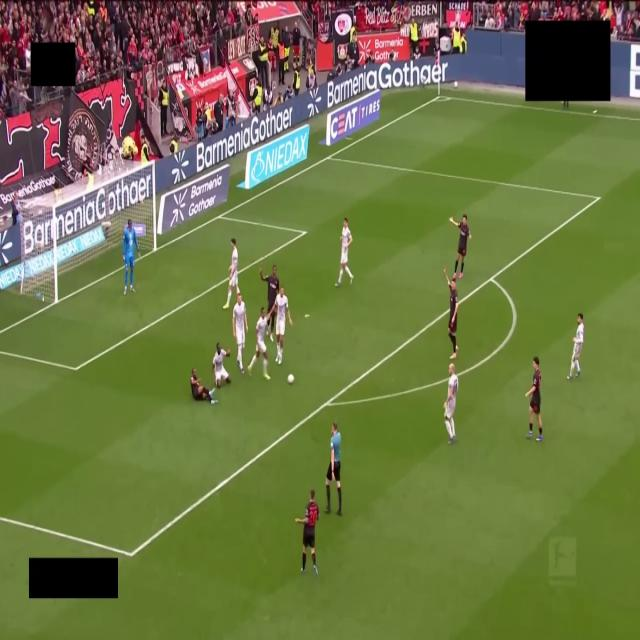ball: (287, 375, 294, 384)
player: (296, 489, 318, 575), (270, 288, 292, 365), (248, 308, 270, 380), (526, 357, 543, 441), (444, 268, 459, 359), (450, 216, 471, 278), (232, 294, 247, 374), (123, 220, 139, 295), (336, 218, 353, 287), (444, 363, 458, 444), (223, 239, 239, 309), (568, 313, 583, 380), (191, 368, 217, 405), (260, 265, 279, 311), (212, 344, 231, 387)
referee: (326, 422, 341, 515)
